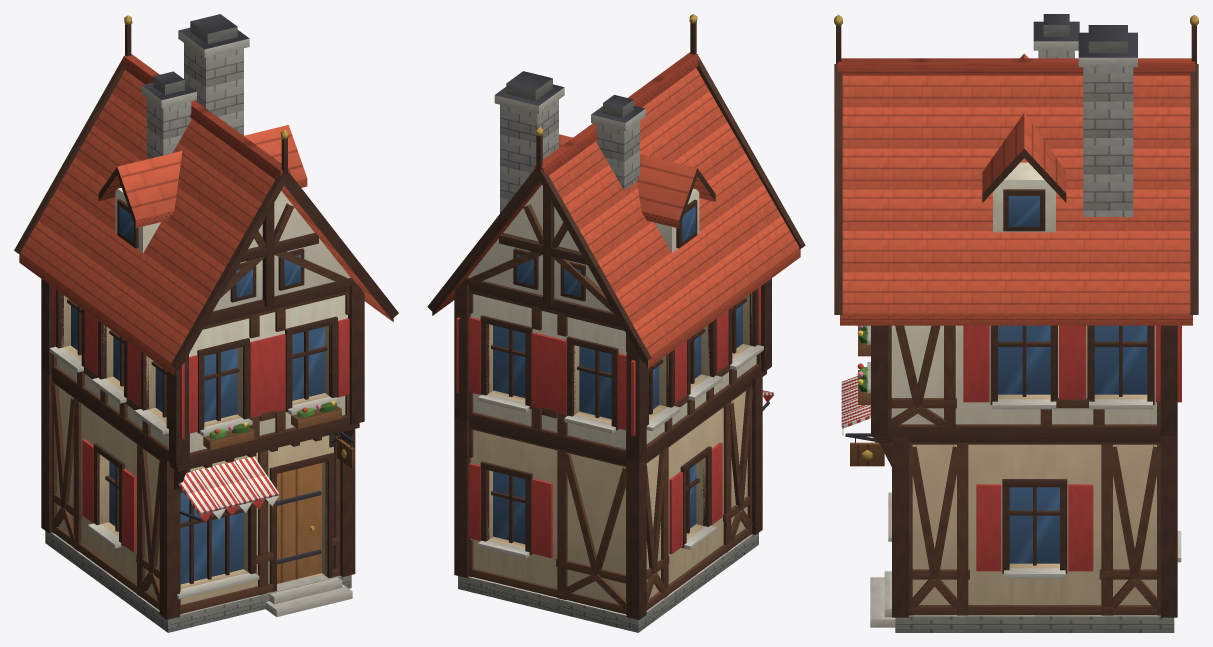
Rendered from biz_bakery_01.glb.
The picture shows the model from 3 angles, left to right: view 1: azimuth 30°, elevation 25°; view 2: azimuth 150°, elevation 25°; view 3: azimuth 270°, elevation 25°; orthographic projection. The views are drawn at different scales.
Parts seen in each view (by area): view 1: biz_bakery_01; view 2: biz_bakery_01; view 3: biz_bakery_01.
Boxes of the visible parts, box(x1,y1,x2,y2) form: biz_bakery_01: box(14, 14, 398, 632); biz_bakery_01: box(427, 14, 805, 632); biz_bakery_01: box(834, 14, 1198, 632).
Bounding box in the file's own units: 5.62 × 12.09 × 6.95.
1 material, 1 textured.
